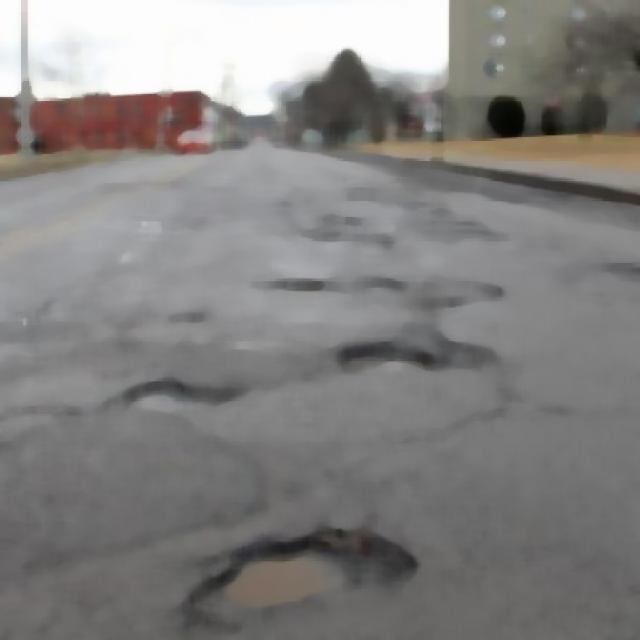Pothole: (187, 526, 464, 625), (320, 322, 522, 398), (126, 361, 246, 425)
